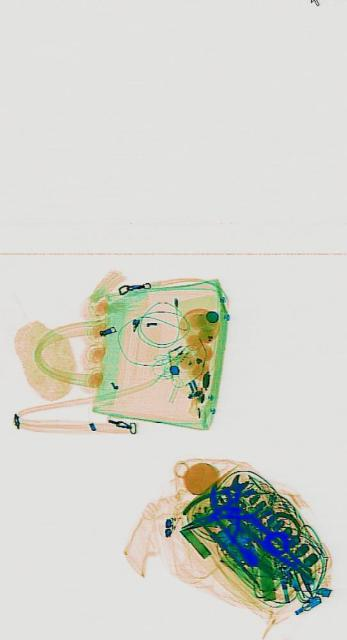Pliers: (180, 441, 258, 572), (177, 484, 257, 544)
